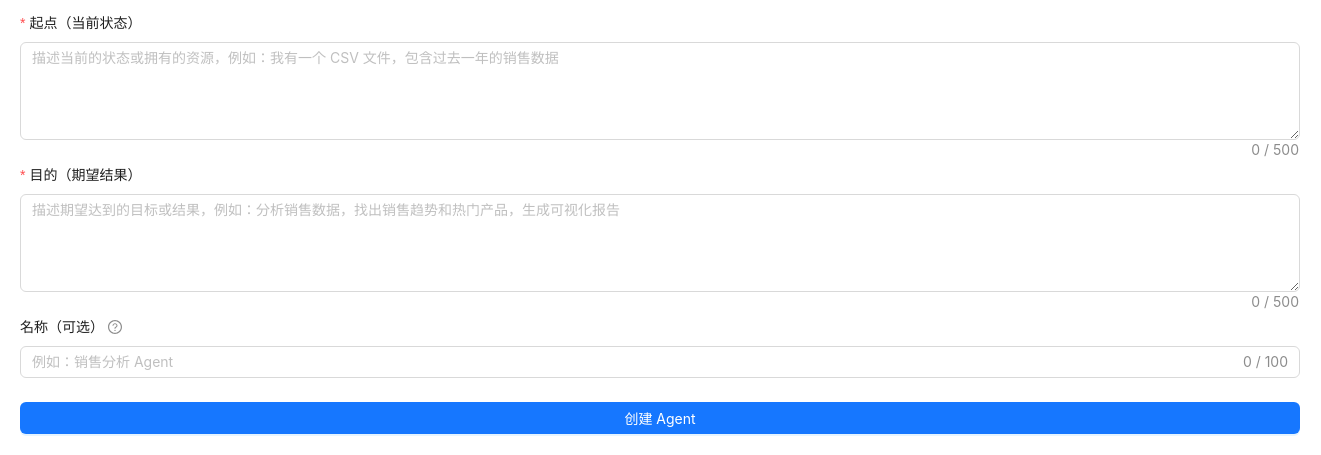
CreateAgentForm › 当 start 字段为空时，应该显示验证错误
The image size is (1321, 455).
点击提交按钮（不填写任何字段）
Click the button "创建 Agent" at (660, 418), box [20,402,1300,434]
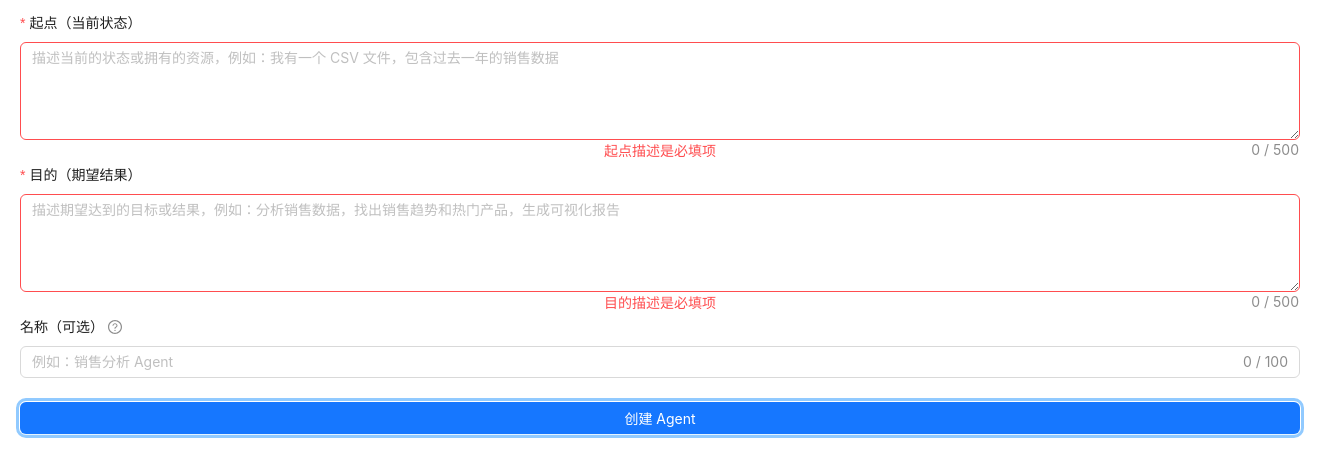
expect the text "起点描述是必填项" is shown: met, box [604,142,716,159]
